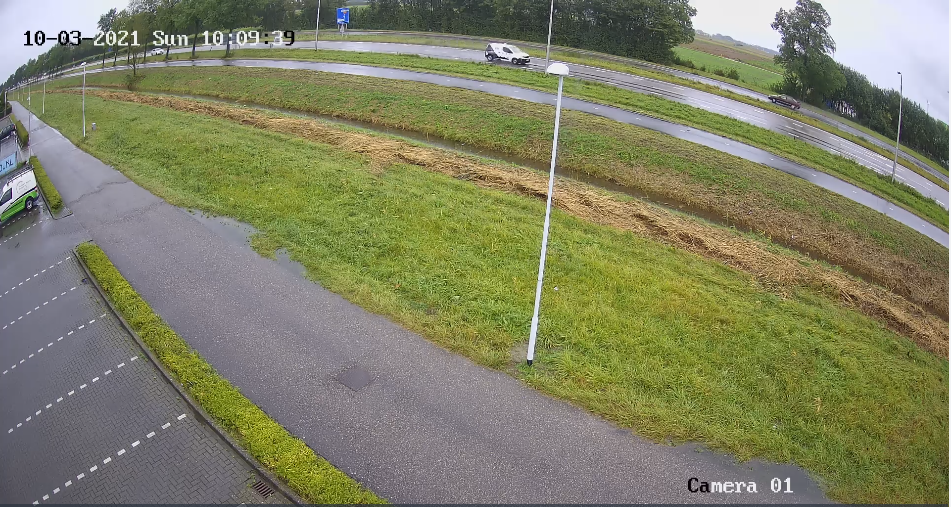werkbus: (483, 37, 532, 68)
